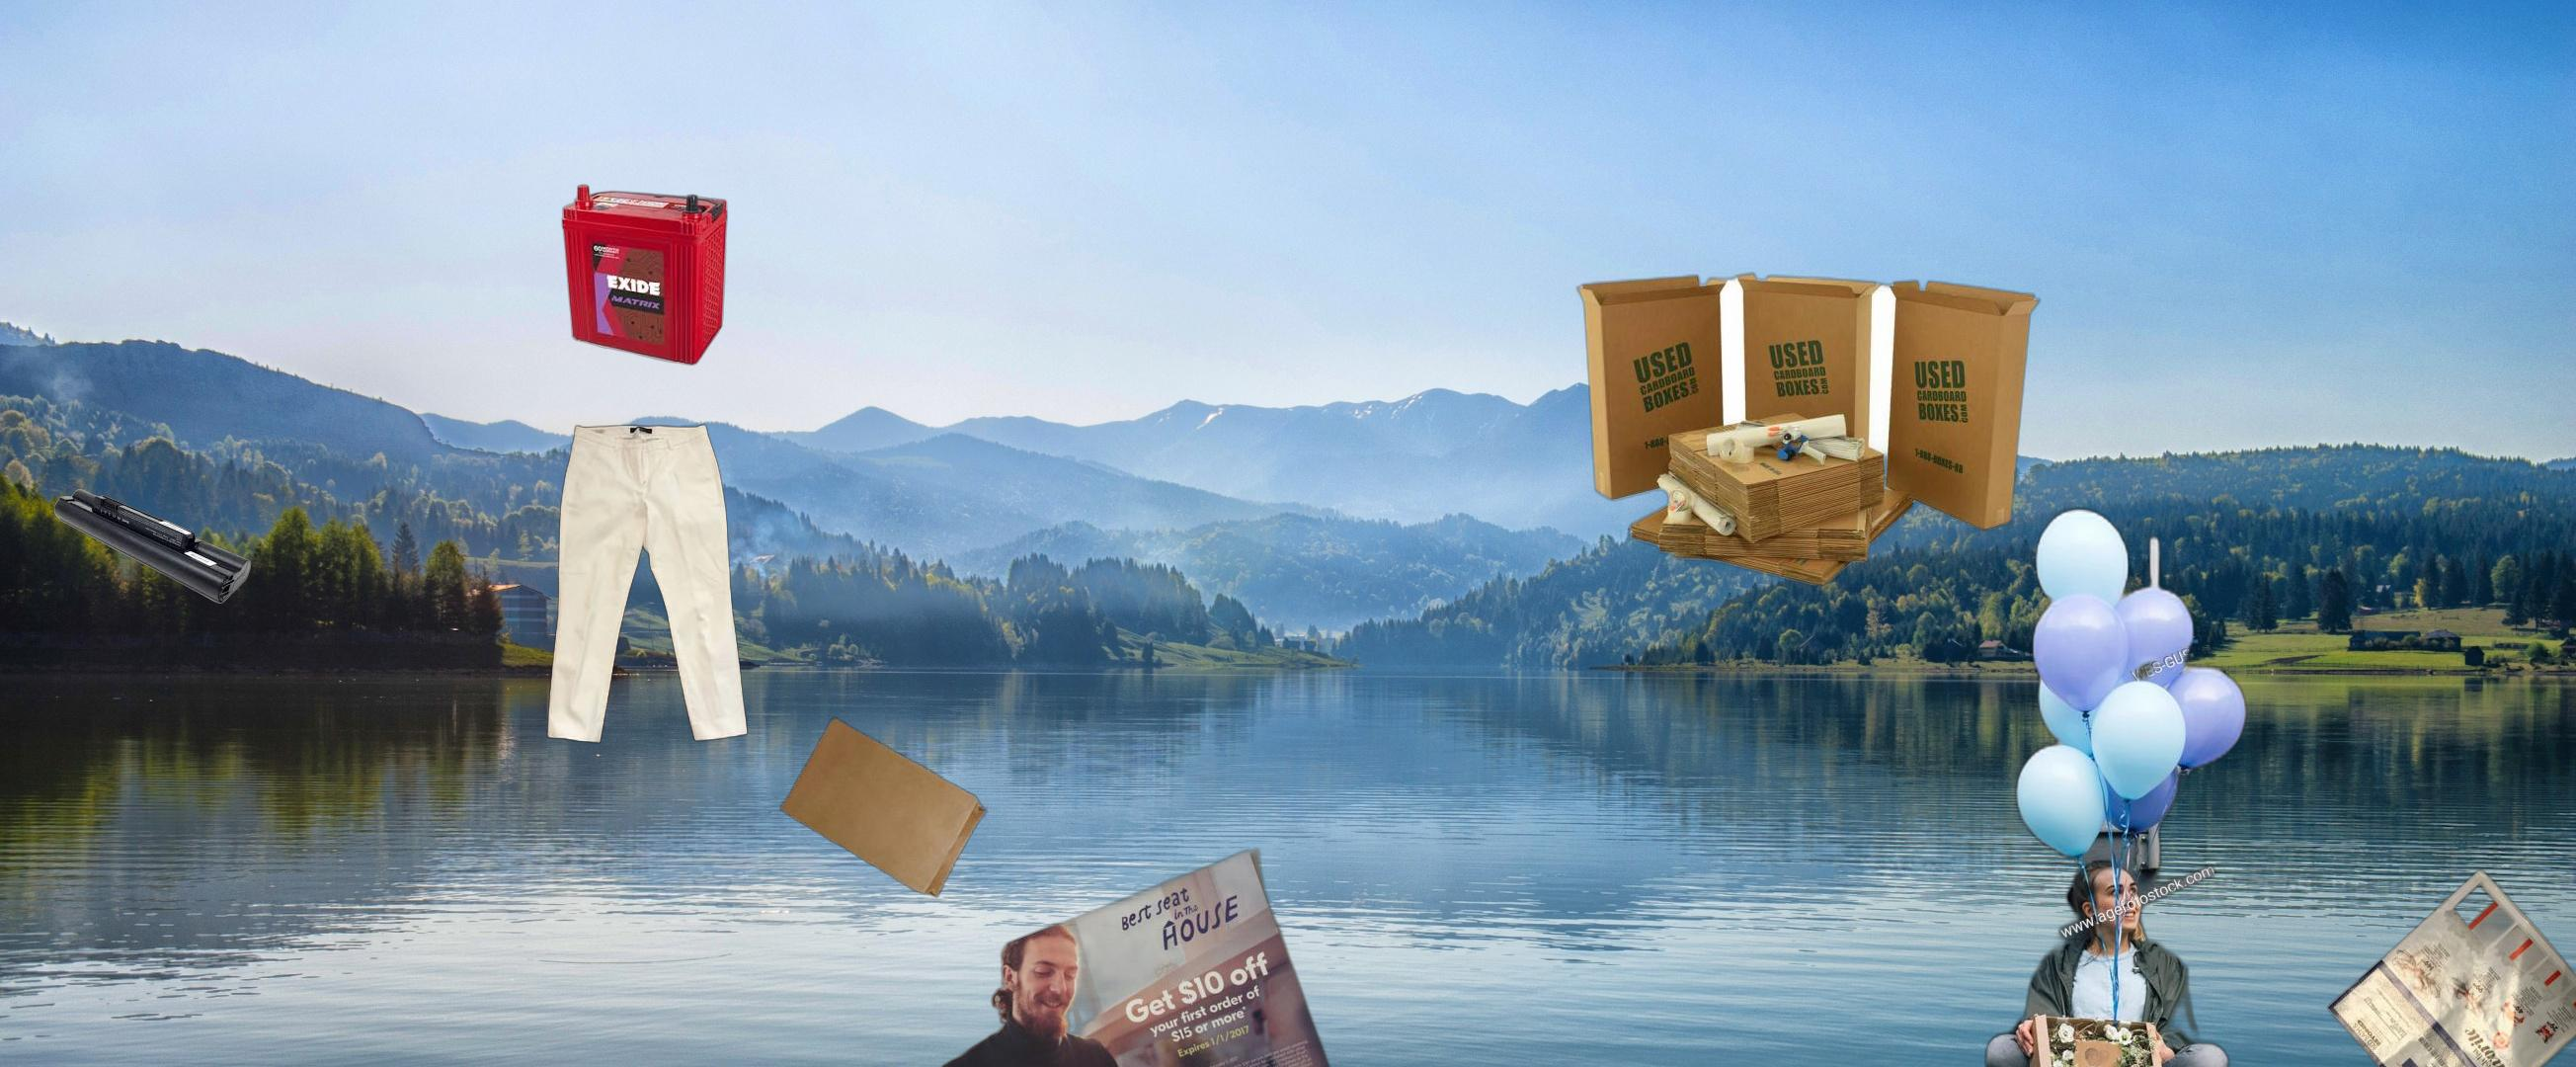battery: (537, 168, 747, 368), (51, 487, 255, 607)
clothes: (544, 419, 752, 748)
paper: (925, 804, 1339, 1067), (2323, 866, 2576, 1067)
paper-bag: (777, 715, 989, 899)
trashbox-cardboard: (1978, 498, 2252, 1067), (1572, 268, 2045, 590)
